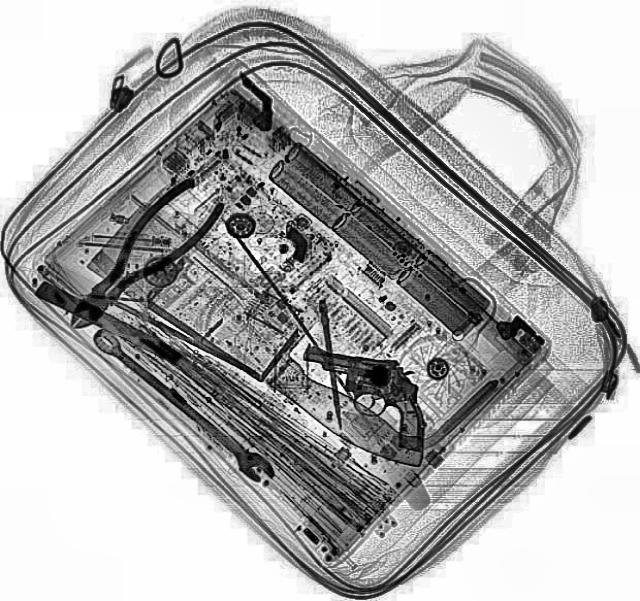Gun: (288, 345, 436, 450)
Knife: (82, 190, 472, 483)
Pliers: (44, 173, 230, 341)
Wrench: (85, 320, 279, 487)
